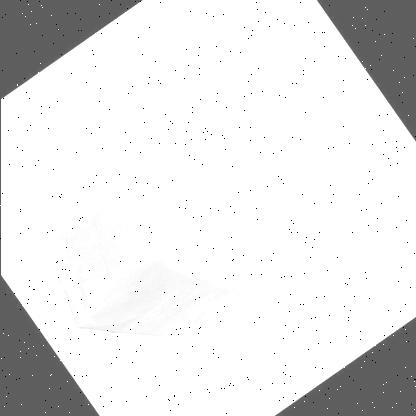Others: (46, 53, 366, 337)
